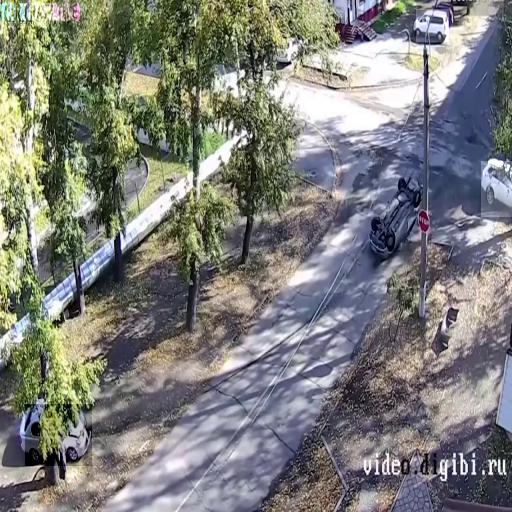小汽车: (25, 404, 92, 466), (375, 173, 420, 252), (481, 161, 512, 217), (416, 9, 449, 42)
